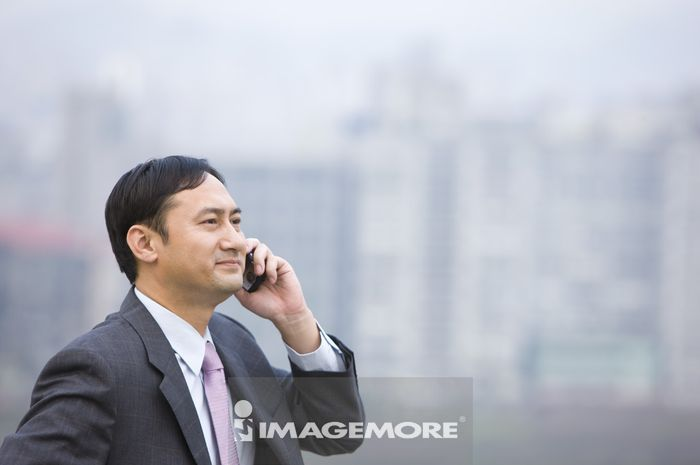talk: (191, 202, 309, 336)
